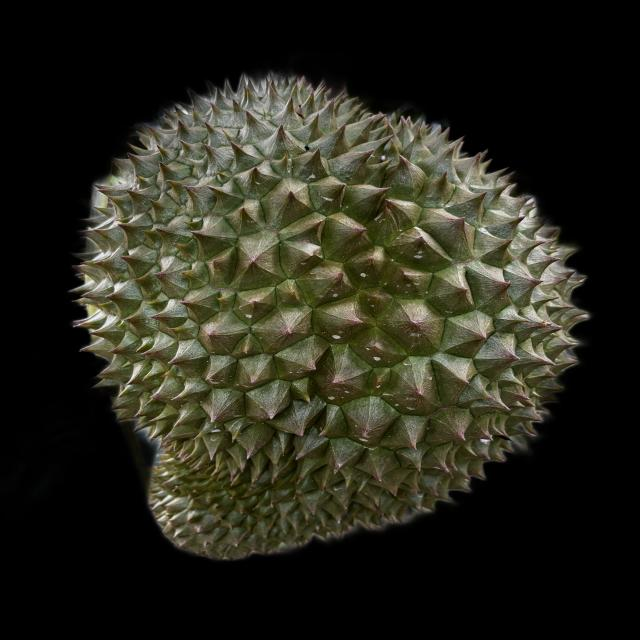immature: (77, 72, 586, 560)
